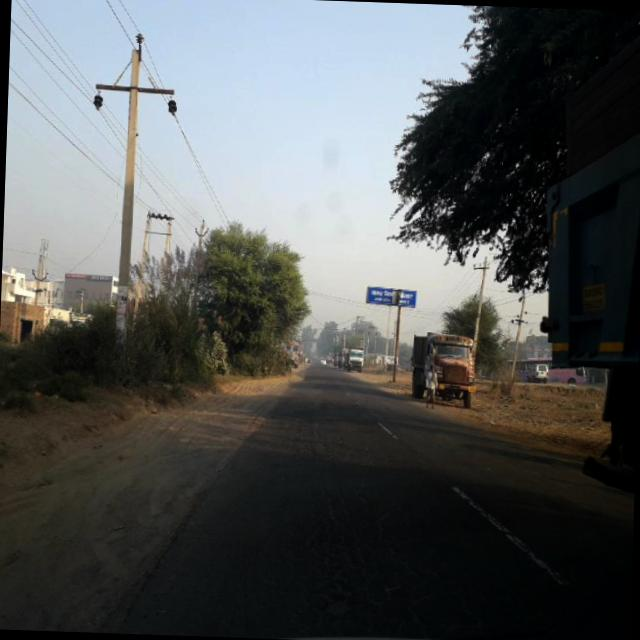crack: (282, 413, 543, 640)
pothole: (299, 585, 374, 639)
